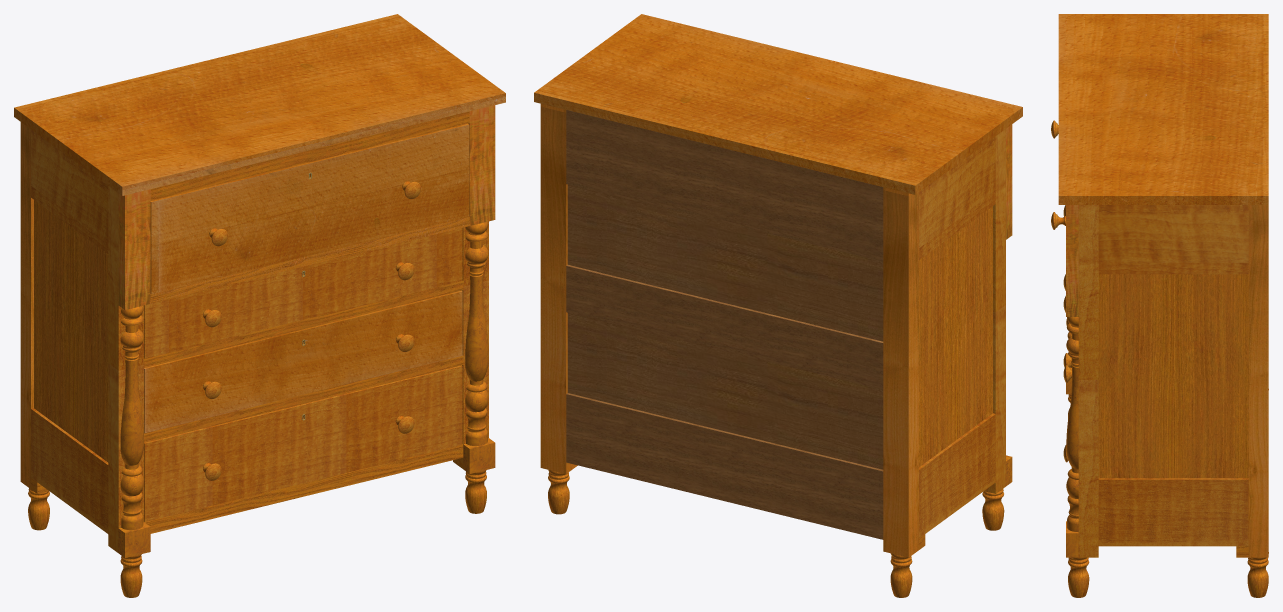
File: drawer.dae
3 renders of one model, left to right at view 1: azimuth 30°, elevation 25°; view 2: azimuth 150°, elevation 25°; view 3: azimuth 270°, elevation 25°, orthographic. The views are drawn at different scales.
Visible parts, largest first — view 1: top, upper_drawer_front, lower_drawer_front, lower_mid_drawer_front, upper_mid_drawer_front, side_panel, front_turning (×2), front_frame_stiles (×2), upper_front_face_block (×2), center_drawer_frame_front_rail (×2), side-lower_rail, side-upper_rail (+5 smaller); view 2: back_panel (×2), top, back-upper_rail, back_frame_stiles (×2), back-lower_rail, back-mid_rail, side_panel, side-lower_rail, side-upper_rail, front_frame_stiles, foot (×3), upper_front_face_block; view 3: top, side_panel, side-upper_rail, side-lower_rail, front_frame_stiles, back_frame_stiles, front_turning, foot (×2), upper_front_face_block.
Part boxes in pixels (<box>): top: <box>14,14,505,195</box>; upper_drawer_front: <box>150,124,469,294</box>; lower_drawer_front: <box>144,365,462,521</box>; lower_mid_drawer_front: <box>144,290,462,432</box>; upper_mid_drawer_front: <box>144,228,462,358</box>; side_panel: <box>34,200,108,462</box>; front_turning (×2): <box>118,221,495,557</box>; front_frame_stiles (×2): <box>108,186,488,552</box>; upper_front_face_block (×2): <box>118,105,495,309</box>; center_drawer_frame_front_rail (×2): <box>144,281,463,442</box>; side-lower_rail: <box>31,408,108,533</box>; side-upper_rail: <box>31,129,108,253</box>; back_panel (×2): <box>567,184,883,469</box>; top: <box>534,14,1022,194</box>; back-upper_rail: <box>566,110,883,261</box>; back_frame_stiles (×2): <box>540,103,918,557</box>; back-lower_rail: <box>566,393,883,539</box>; back-mid_rail: <box>566,265,883,389</box>; side_panel: <box>919,206,992,466</box>; side-lower_rail: <box>919,413,995,538</box>; side-upper_rail: <box>919,136,995,259</box>; front_frame_stiles: <box>984,129,1005,493</box>; foot (×3): <box>548,470,1004,597</box>; upper_front_face_block: <box>1006,124,1012,239</box>; top: <box>1058,14,1268,204</box>; side_panel: <box>1098,274,1248,478</box>; side-upper_rail: <box>1098,205,1248,274</box>; side-lower_rail: <box>1098,478,1248,546</box>; front_frame_stiles: <box>1078,205,1098,557</box>; back_frame_stiles: <box>1248,205,1268,557</box>; front_turning: <box>1066,317,1078,557</box>; foot (×2): <box>1068,552,1268,597</box>; upper_front_face_block: <box>1066,205,1078,316</box>.
Size of the model in its own units: 43 by 21.76 by 45.
